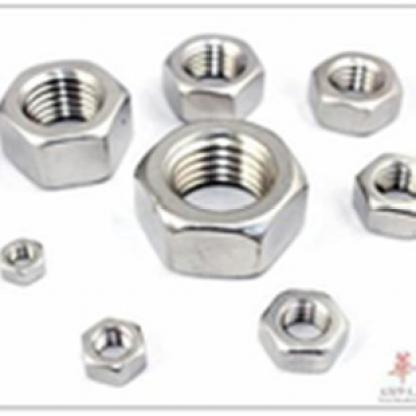FOD: (133, 115, 311, 280), (0, 58, 134, 188), (159, 36, 270, 126), (310, 49, 408, 138), (254, 287, 352, 375), (349, 148, 415, 243), (80, 314, 150, 386), (0, 236, 50, 291)
